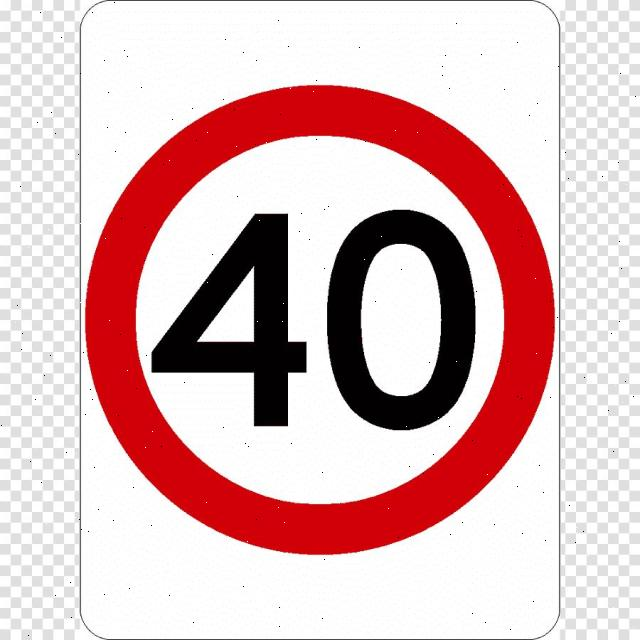speed limit 40: (85, 83, 559, 555)
